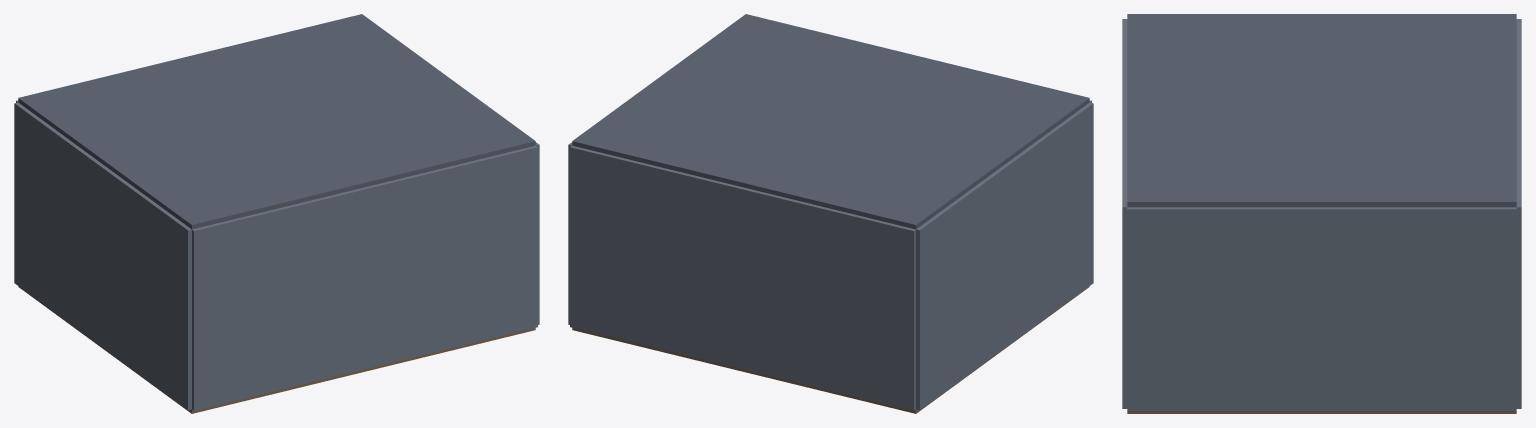
Rendered from xona.glb.
The picture shows the model from 3 angles, left to right: view 1: azimuth 30°, elevation 25°; view 2: azimuth 150°, elevation 25°; view 3: azimuth 270°, elevation 25°; orthographic projection. The views are drawn at different scales.
Parts seen in each view (by area): view 1: WallSouth, Ceiling, WallWest, Floor; view 2: WallNorth, Ceiling, WallWest, Floor; view 3: WallEast, Ceiling, WallNorth, WallSouth, Floor.
Boxes of the visible parts, x1,y1,x2,y2 form: WallSouth: (192, 145, 537, 410); Ceiling: (18, 14, 535, 229); WallWest: (14, 102, 191, 410); Floor: (18, 286, 535, 413); WallNorth: (570, 145, 915, 410); Ceiling: (572, 14, 1089, 229); WallWest: (916, 102, 1093, 410); Floor: (572, 286, 1089, 413); WallEast: (1127, 207, 1516, 410); Ceiling: (1127, 14, 1516, 207); WallNorth: (1516, 19, 1521, 408); WallSouth: (1122, 19, 1127, 408); Floor: (1127, 411, 1516, 413).
Bounding box in the file's own units: 6.54 × 3.36 × 5.74.
